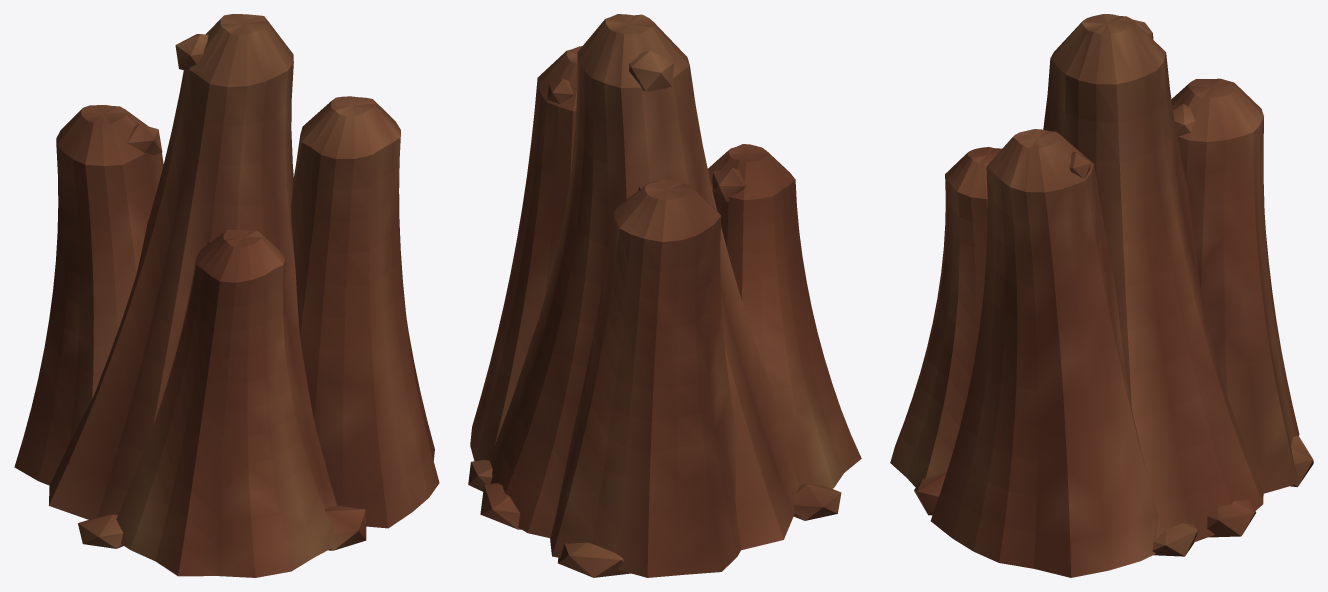
The model's file is termite_mound_b.glb.
3 renders of one model, left to right at view 1: azimuth 30°, elevation 25°; view 2: azimuth 150°, elevation 25°; view 3: azimuth 270°, elevation 25°, orthographic. The views are drawn at different scales.
Parts seen in each view (by area): view 1: termite_mound_b; view 2: termite_mound_b; view 3: termite_mound_b.
Boxes of the visible parts, x1,y1,x2,y2 form: termite_mound_b: (14,14,439,577); termite_mound_b: (468,14,861,577); termite_mound_b: (890,14,1313,577).
Size of the model in its own units: 2.78 by 3.44 by 2.78.
